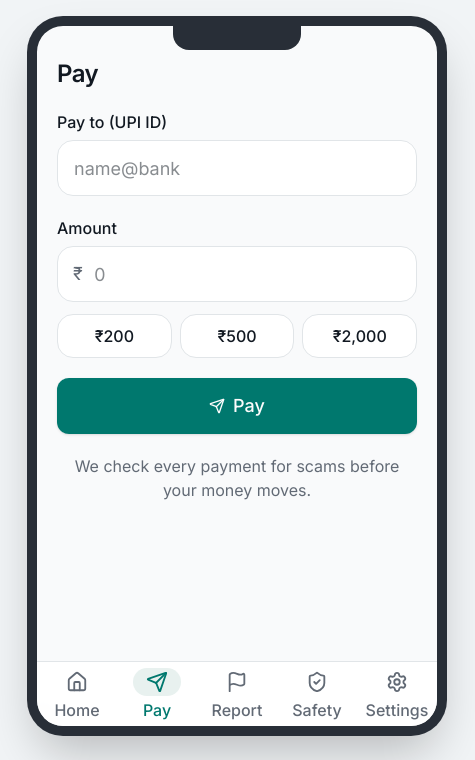
Customer app: Pay (spec 07 §3, §5) › a normal ₹200 payment goes straight to 'Payment sent'
Type "grocer.mart@okhdfcbank" into the field labelled "Pay to (UPI ID)" at {"x": 237, "y": 168}, box [57,140,417,196]
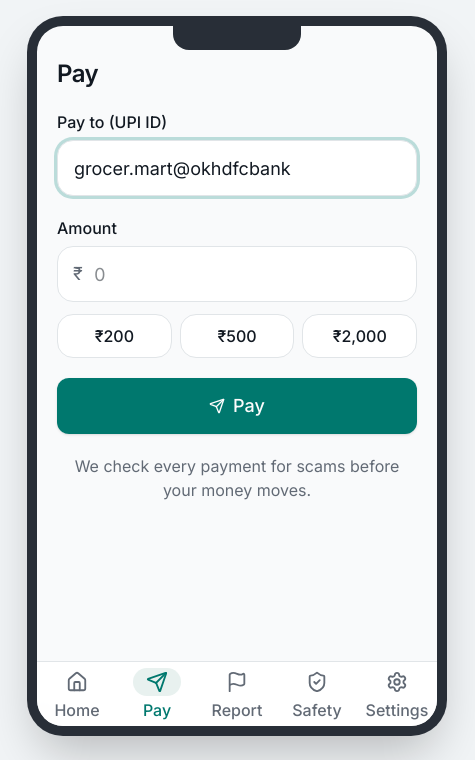
Type "200" into the field labelled "Amount" at {"x": 237, "y": 274}, box [57,246,417,302]
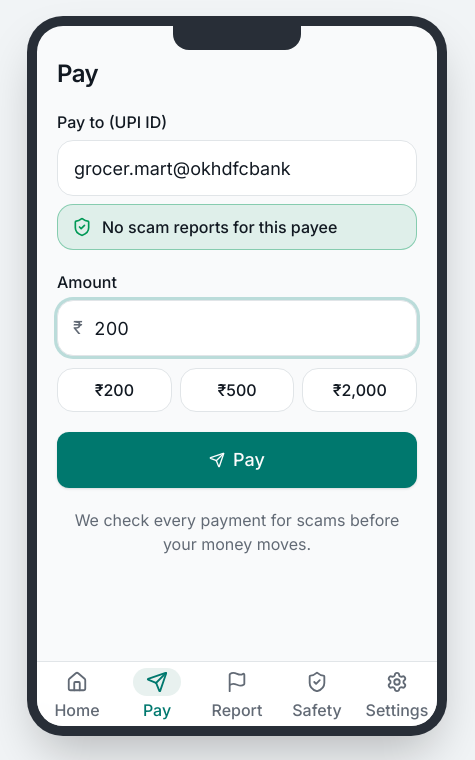
Click the button "Pay" at {"x": 237, "y": 460}, box [57,432,417,488]
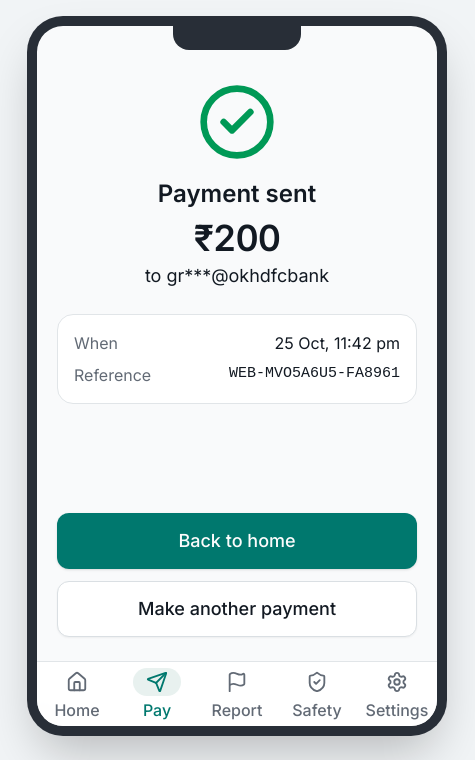
Check: the text "₹200" is shown, box [194,216,280,260]
Check: the heading "Payment sent" is shown, box [158,179,316,208]
